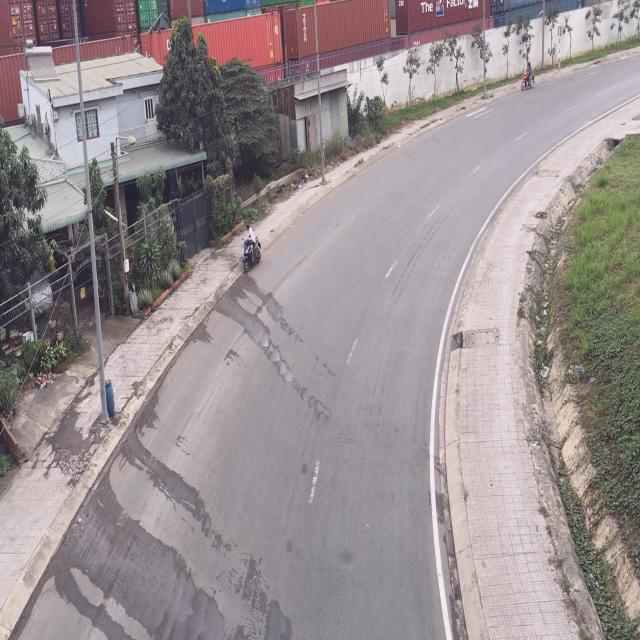motorbike: (242, 224, 262, 274), (521, 60, 536, 92)
